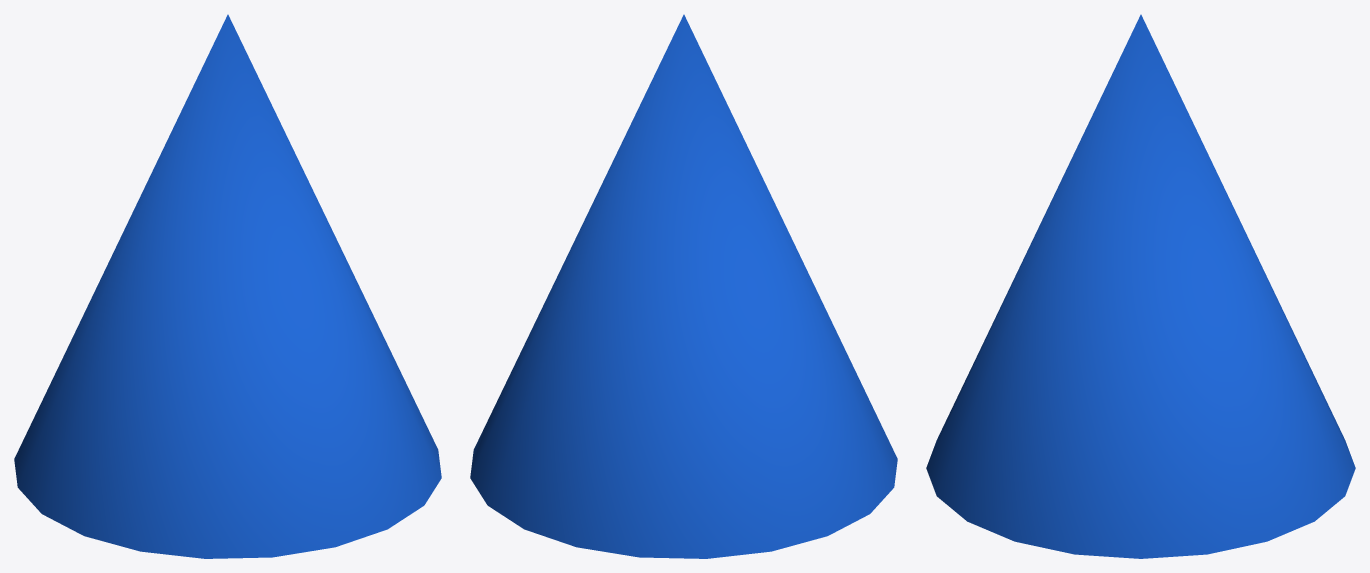
File: CONO.fbx
3 renders of one model, left to right at view 1: azimuth 30°, elevation 25°; view 2: azimuth 150°, elevation 25°; view 3: azimuth 270°, elevation 25°, orthographic.
Visible parts, largest first — view 1: pCone1; view 2: pCone1; view 3: pCone1.
Boxes of the visible parts, left/top/right/bottom form: pCone1: left=14, top=14, right=441, bottom=558; pCone1: left=470, top=14, right=897, bottom=558; pCone1: left=926, top=14, right=1355, bottom=558.
Bounding box in the file's own units: 6 × 7 × 6.
Materials: 1 (1 with a texture image).
